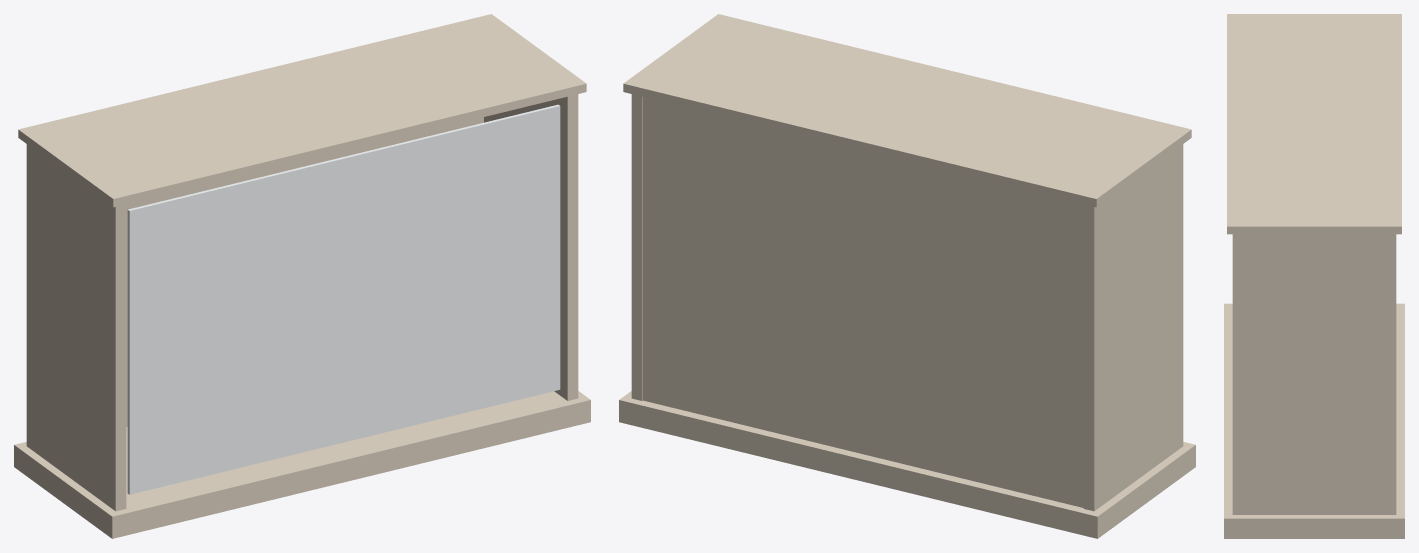
Rendered from mdl-vitrine.90eaa2e6.glb.
3 views of the same model, side by side, from view 1: azimuth 30°, elevation 25°; view 2: azimuth 150°, elevation 25°; view 3: azimuth 270°, elevation 25° (orthographic). The views are drawn at different scales.
Visible parts, largest first — view 1: vitrine; view 2: vitrine; view 3: vitrine.
Boxes of the visible parts, x1,y1,x2,y2 form: vitrine: [14, 14, 590, 538]; vitrine: [619, 14, 1195, 538]; vitrine: [1224, 14, 1404, 538].
Size of the model in its own units: 1.8 by 1.21 by 0.64.
